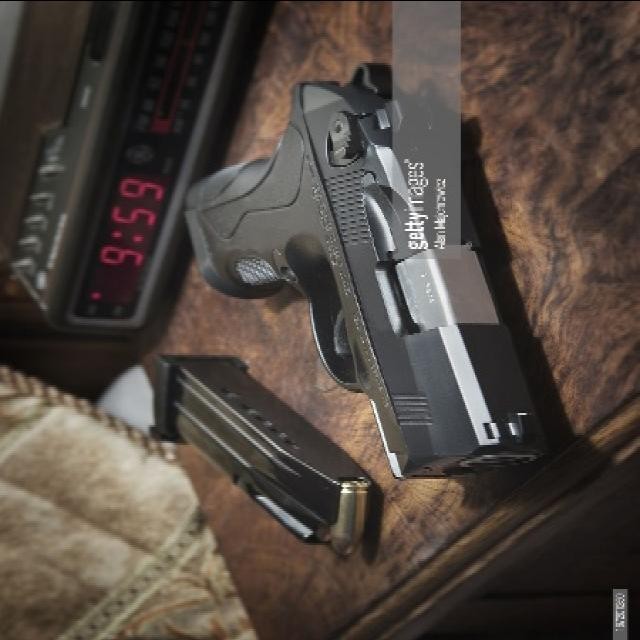handgun: (172, 53, 572, 485)
